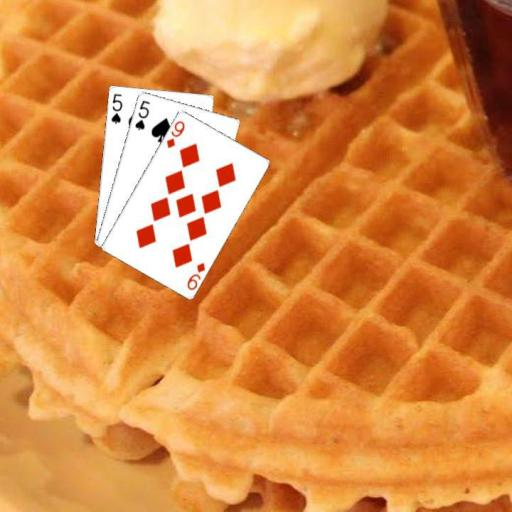5S: (132, 97, 151, 131), (107, 91, 124, 125)
9D: (183, 259, 207, 291), (163, 118, 186, 150)
